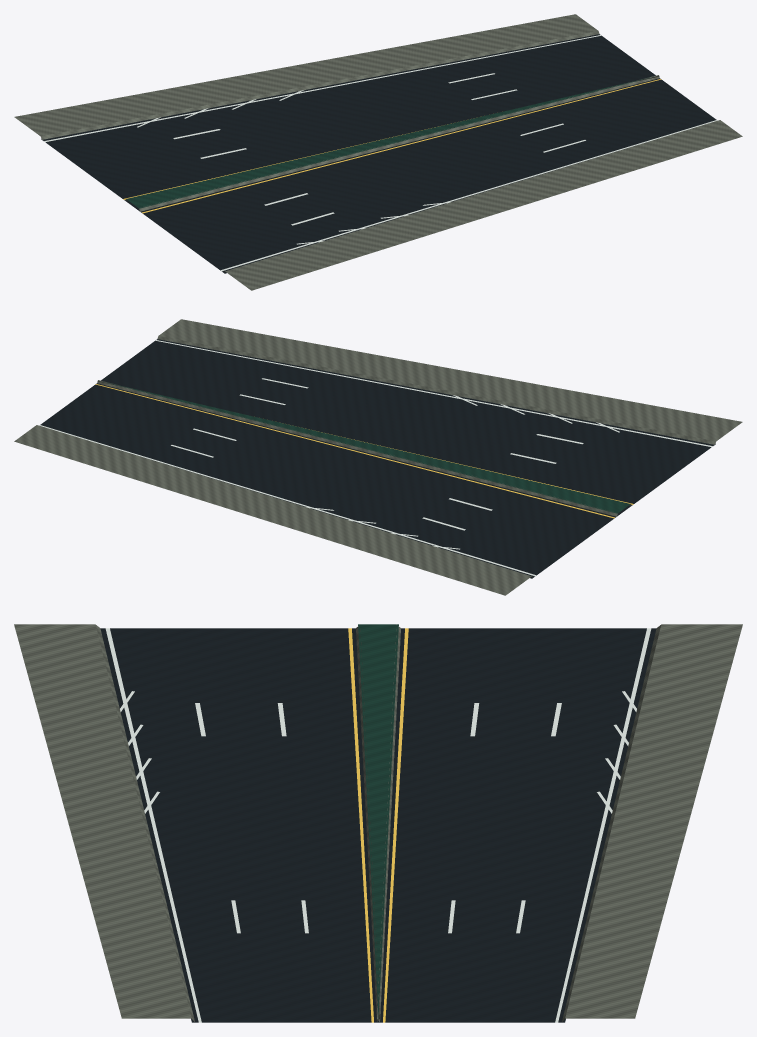
File: road_taper_6to4_32m_LOD1.glb
3 views of the same model, one above another, from view 1: azimuth 30°, elevation 25°; view 2: azimuth 150°, elevation 25°; view 3: azimuth 270°, elevation 25° (orthographic). The views are drawn at different scales.
Visible parts, largest first — view 1: road_taper_6to4_32m__surface.001, road_taper_6to4_32m__markings.001; view 2: road_taper_6to4_32m__surface.001, road_taper_6to4_32m__markings.001; view 3: road_taper_6to4_32m__surface.001, road_taper_6to4_32m__markings.001.
Part boxes in pixels (bbox=[...]): road_taper_6to4_32m__surface.001: bbox=[14, 14, 742, 290]; road_taper_6to4_32m__markings.001: bbox=[44, 35, 717, 271]; road_taper_6to4_32m__surface.001: bbox=[14, 319, 742, 595]; road_taper_6to4_32m__markings.001: bbox=[39, 340, 712, 576]; road_taper_6to4_32m__surface.001: bbox=[14, 624, 742, 1022]; road_taper_6to4_32m__markings.001: bbox=[105, 628, 651, 1022].
Size of the model in its own units: 32 by 0.15 by 25.
6 materials, 4 textured.
